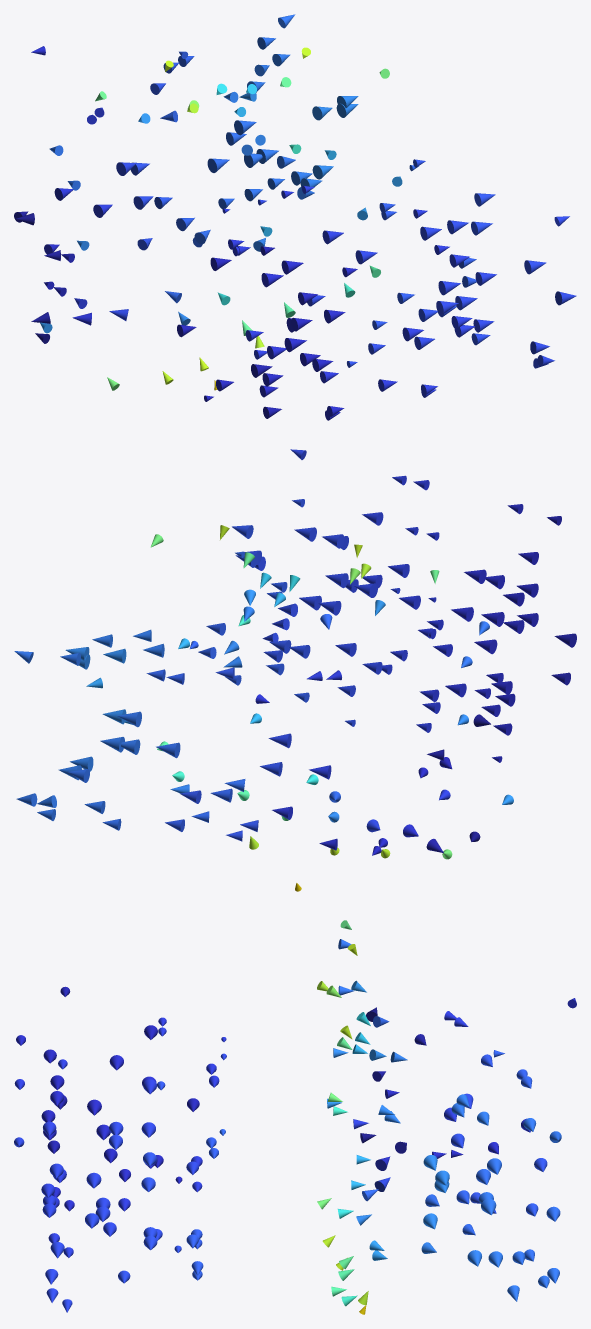
File: LineasCorrienteN2-H2O_mh2-6.88_V-1.1.glb
3 views of the same model, one above another, from view 1: azimuth 30°, elevation 25°; view 2: azimuth 150°, elevation 25°; view 3: azimuth 270°, elevation 25° (orthographic). The views are drawn at different scales.
Bounding box in the file's own units: 0.000992 × 0.000817 × 0.00121.
Materials: 2 (2 with a texture image).
